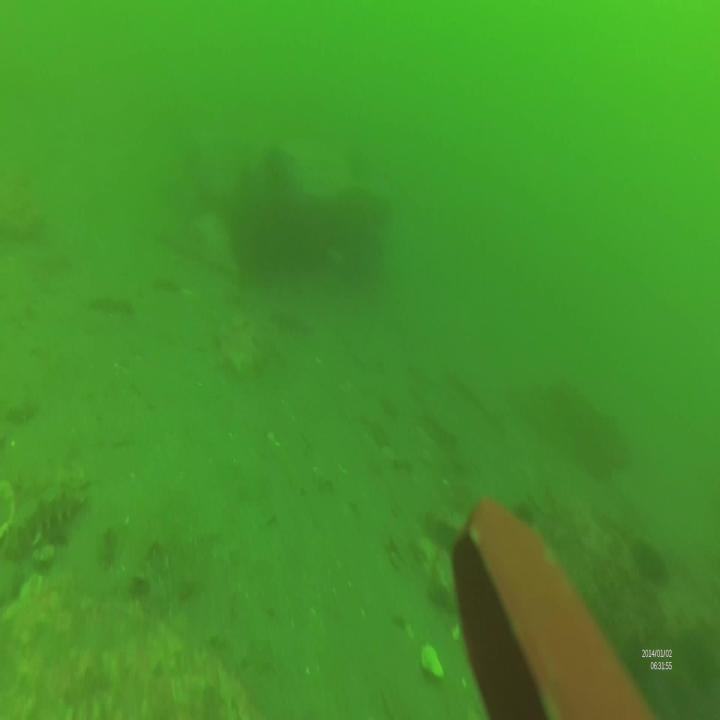echinus: (635, 536, 672, 592)
holothurian: (3, 478, 88, 556)
